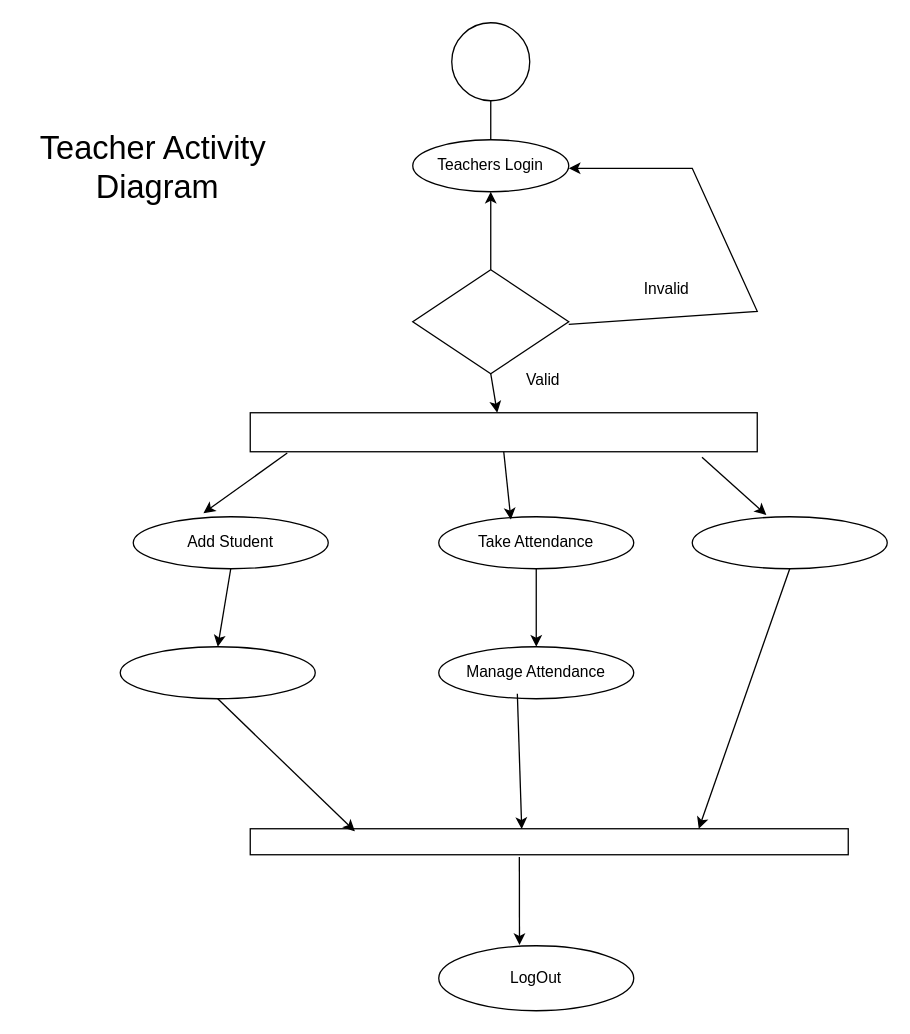
This 910x1034 diagram has some shape labels left out. Here are the shapes that lost their labels. From the top down, the centre of each, then its label:
At [490,321]: "Authentication".
At [789,542]: "Generate Report".
At [217,672]: "Modify Student".
